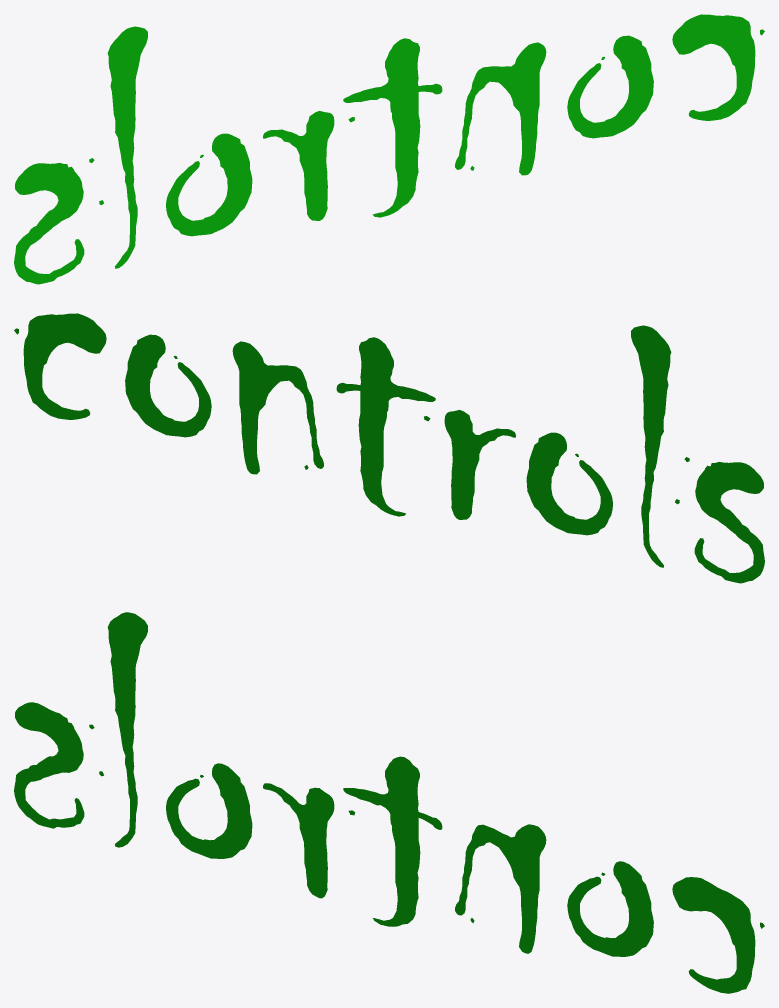
The model's file is controlsButtonText.obj.
3 renders of one model, top to bottom at view 1: azimuth 30°, elevation 25°; view 2: azimuth 150°, elevation 25°; view 3: azimuth 330°, elevation 25°, orthographic.
Parts seen in each view (by area): view 1: controlsButtonText; view 2: controlsButtonText; view 3: controlsButtonText.
Part boxes in pixels (x1=…): controlsButtonText: x1=14, y1=14, x2=764, y2=284; controlsButtonText: x1=14, y1=313, x2=764, y2=583; controlsButtonText: x1=14, y1=612, x2=764, y2=993.
Bounding box in the file's own units: 1.91 × 0.6102 × 0.
